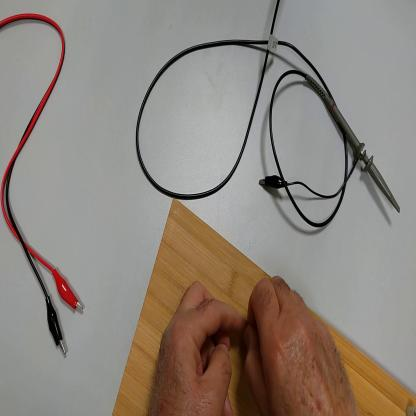hand: (247, 275, 355, 414), (146, 283, 246, 413)
oscilloscope probe tip: (308, 75, 401, 213)
working area: (114, 200, 416, 416)
